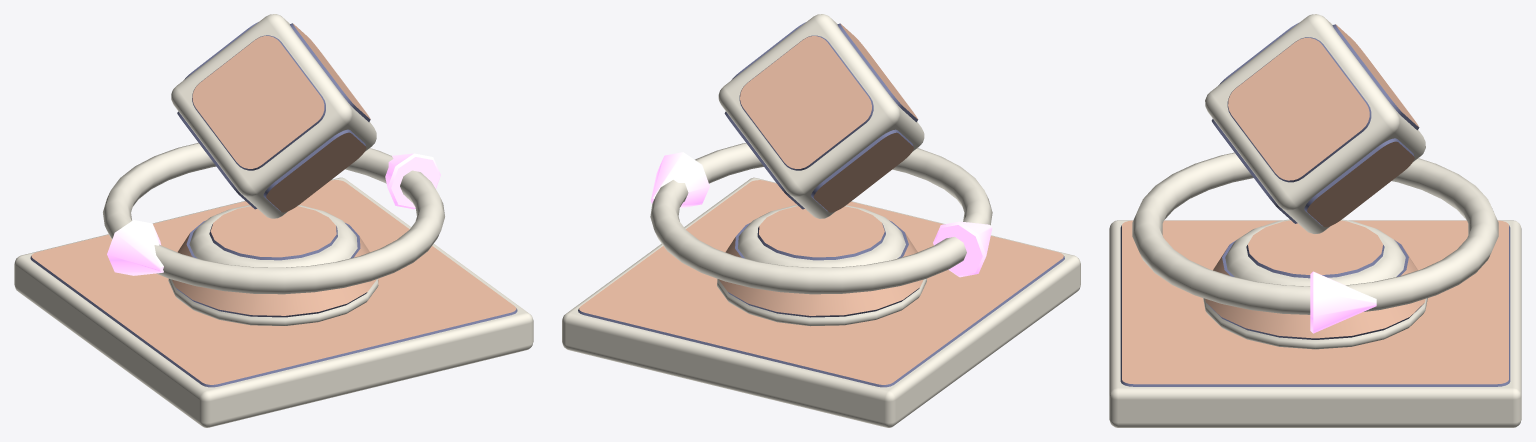
Rendered from R4X_RewardReroll.fbx.
The picture shows the model from 3 angles, left to right: view 1: azimuth 30°, elevation 25°; view 2: azimuth 150°, elevation 25°; view 3: azimuth 270°, elevation 25°; orthographic projection. The views are drawn at different scales.
Visible parts, largest first — view 1: R4X_RewardReroll_Body, R4X_RewardReroll_Die; view 2: R4X_RewardReroll_Body, R4X_RewardReroll_Die; view 3: R4X_RewardReroll_Body, R4X_RewardReroll_Die.
Boxes of the visible parts, x1,y1,x2,y2 form: R4X_RewardReroll_Body: [14, 143, 533, 427]; R4X_RewardReroll_Die: [171, 14, 376, 218]; R4X_RewardReroll_Body: [562, 143, 1080, 427]; R4X_RewardReroll_Die: [718, 14, 924, 218]; R4X_RewardReroll_Body: [1109, 152, 1521, 427]; R4X_RewardReroll_Die: [1205, 14, 1425, 234].
Bounding box in the file's own units: 0.514 × 0.4544 × 0.514.
